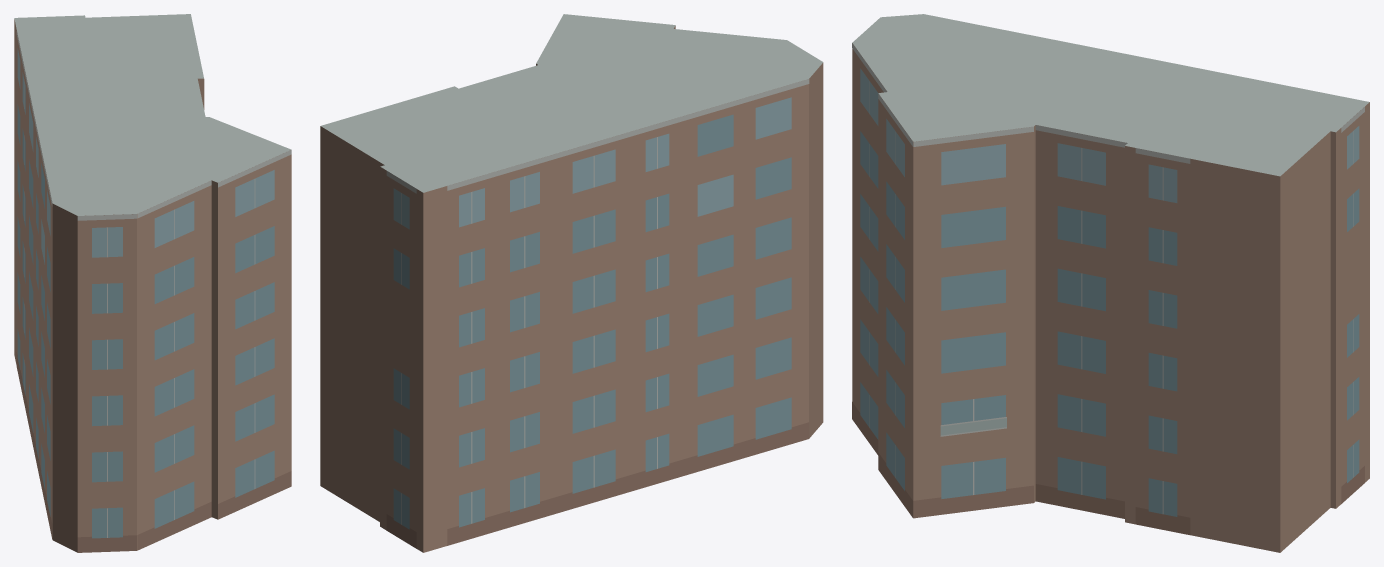
Rendered from survey-upis-32655865.glb.
3 renders of one model, left to right at view 1: azimuth 30°, elevation 25°; view 2: azimuth 150°, elevation 25°; view 3: azimuth 270°, elevation 25°, orthographic. The views are drawn at different scales.
Parts seen in each view (by area): view 1: survey-upis-32655865.tmp; view 2: survey-upis-32655865.tmp; view 3: survey-upis-32655865.tmp.
Boxes of the visible parts, <box> form: survey-upis-32655865.tmp: <box>14,14,291,552</box>; survey-upis-32655865.tmp: <box>320,14,823,552</box>; survey-upis-32655865.tmp: <box>852,14,1369,552</box>.
Size of the model in its own units: 15.93 by 17.22 by 21.46.
